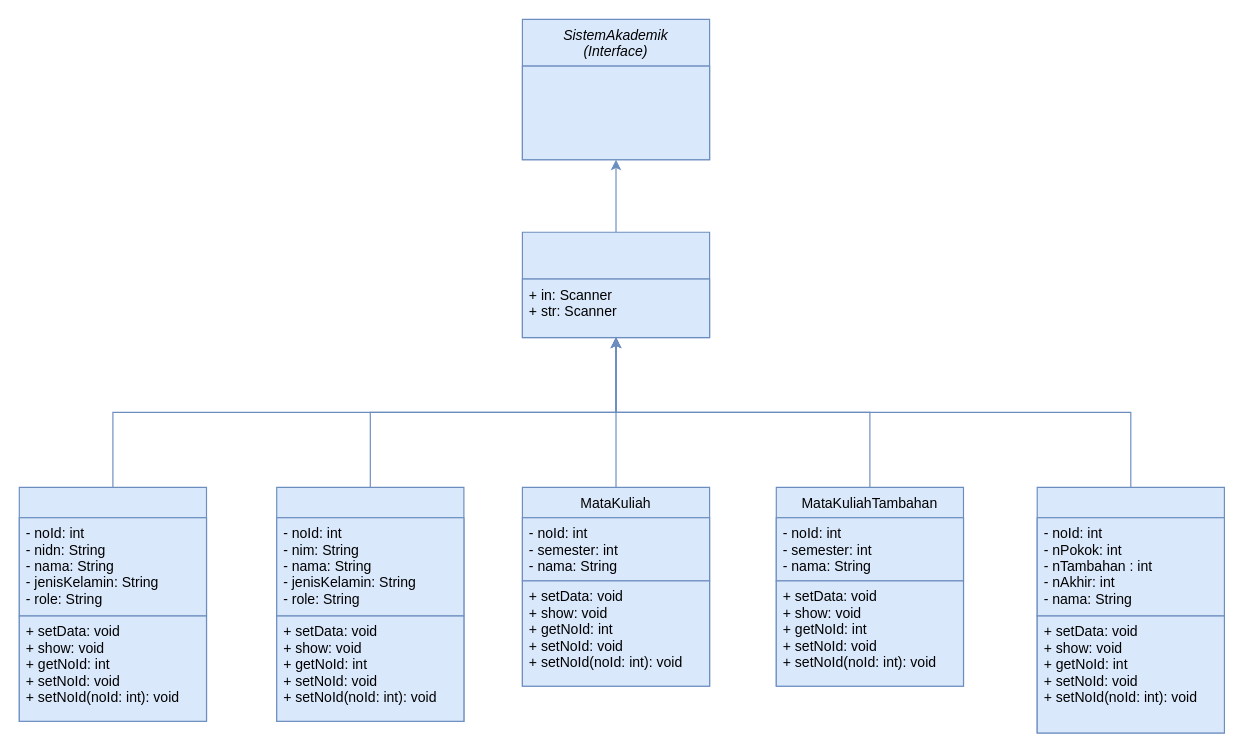
The diagram is 1244 pixels wide and 752 high, and some of its shapes have lost their labels. The box of each missing label's shape, as (x1, y1, x2, y2) in pixels:
+ getNoID: int + setNoId: void + setNoId(noId: int): void + show: void: (521, 65, 710, 160)
Akademik (Abstract): (521, 231, 710, 338)
Dosen: (18, 486, 207, 721)
Mahasiswa: (276, 486, 464, 721)
NilaiMahasiswa: (1036, 486, 1224, 733)
